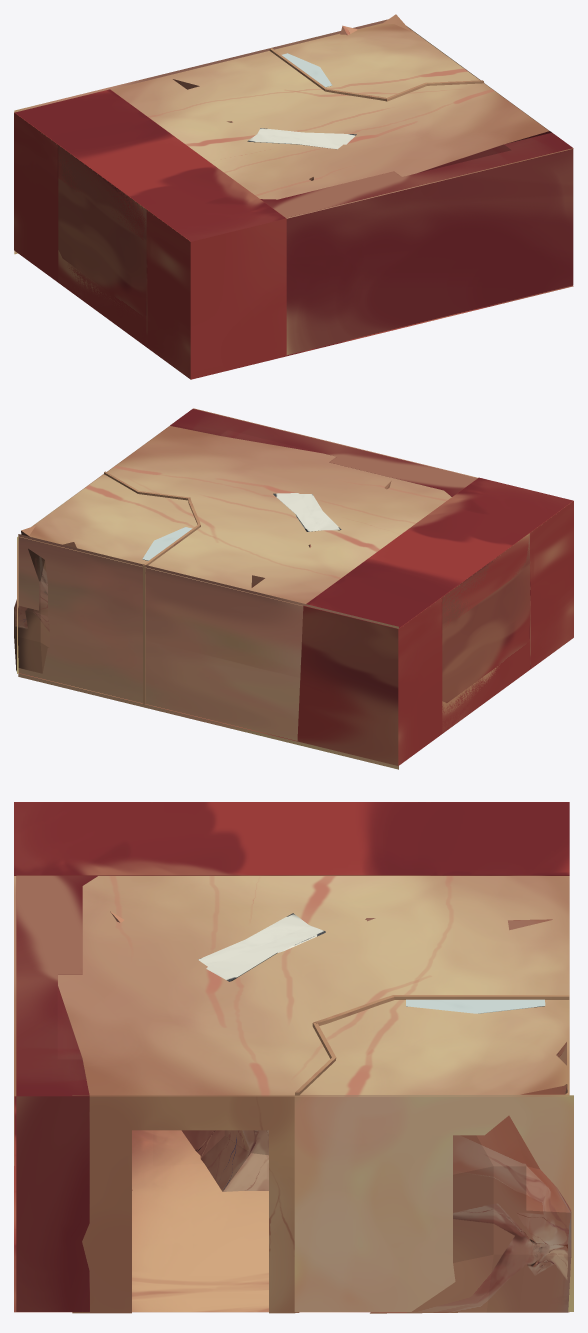
Rendered from MeatRoom.fbx.
3 renders of one model, top to bottom at view 1: azimuth 30°, elevation 25°; view 2: azimuth 150°, elevation 25°; view 3: azimuth 270°, elevation 25°, orthographic. The views are drawn at different scales.
Parts seen in each view (by area): view 1: Plane, Meuble, Ceiling, Room Light, Plane.001, Bathroom Walls, Bathroom Light; view 2: Plane, Ceiling, Plane.001, Meuble, Shower, Room Light, Bathroom Walls, Bathroom Light; view 3: Ceiling, Plane, Plane.002, Meuble, Shower, Entrance, Meat Pile, Room Light, Bathroom Walls, Bathroom Light.
Boxes of the visible parts, box(x1,y1,x2,y2) form: Plane: box(14, 89, 573, 379); Meuble: box(260, 131, 573, 354); Ceiling: box(111, 23, 573, 218); Room Light: box(247, 128, 356, 149); Plane.001: box(14, 19, 387, 254); Bathroom Walls: box(269, 48, 483, 101); Bathroom Light: box(282, 53, 332, 87); Plane: box(18, 477, 573, 765); Ceiling: box(18, 408, 477, 605); Plane.001: box(18, 534, 398, 769); Meuble: box(170, 409, 477, 496); Shower: box(14, 525, 76, 673); Room Light: box(273, 493, 341, 531); Bathroom Walls: box(104, 471, 200, 705); Bathroom Light: box(142, 527, 192, 560); Ceiling: box(14, 876, 569, 1096); Plane: box(14, 802, 569, 1312); Plane.002: box(294, 1095, 573, 1311); Meuble: box(16, 875, 132, 1311); Shower: box(370, 1042, 571, 1313); Entrance: box(72, 1095, 295, 1313); Meat Pile: box(110, 911, 552, 1191); Room Light: box(198, 913, 325, 981); Bathroom Walls: box(295, 995, 569, 1312); Bathroom Light: box(406, 999, 545, 1013).
Size of the model in its own units: 1012 by 393 by 805.
